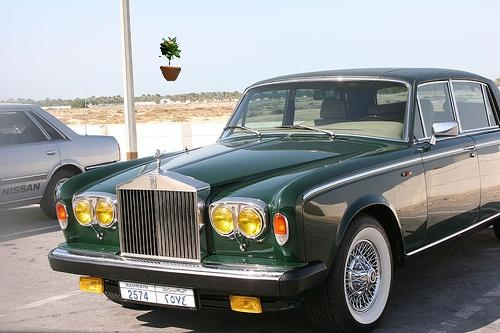tampered: (160, 38, 181, 81)
